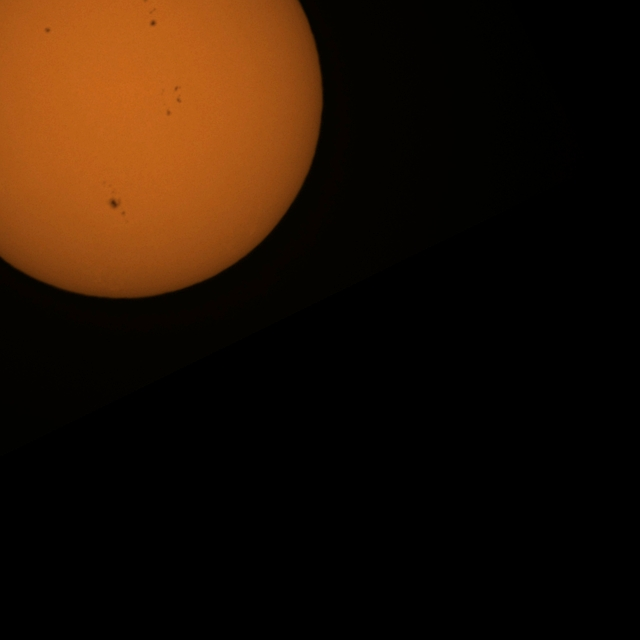sunspot: (159, 83, 183, 114), (103, 180, 124, 213), (107, 194, 127, 220), (148, 6, 159, 27), (174, 85, 183, 105), (149, 17, 158, 28), (43, 26, 52, 34), (165, 109, 172, 117)
